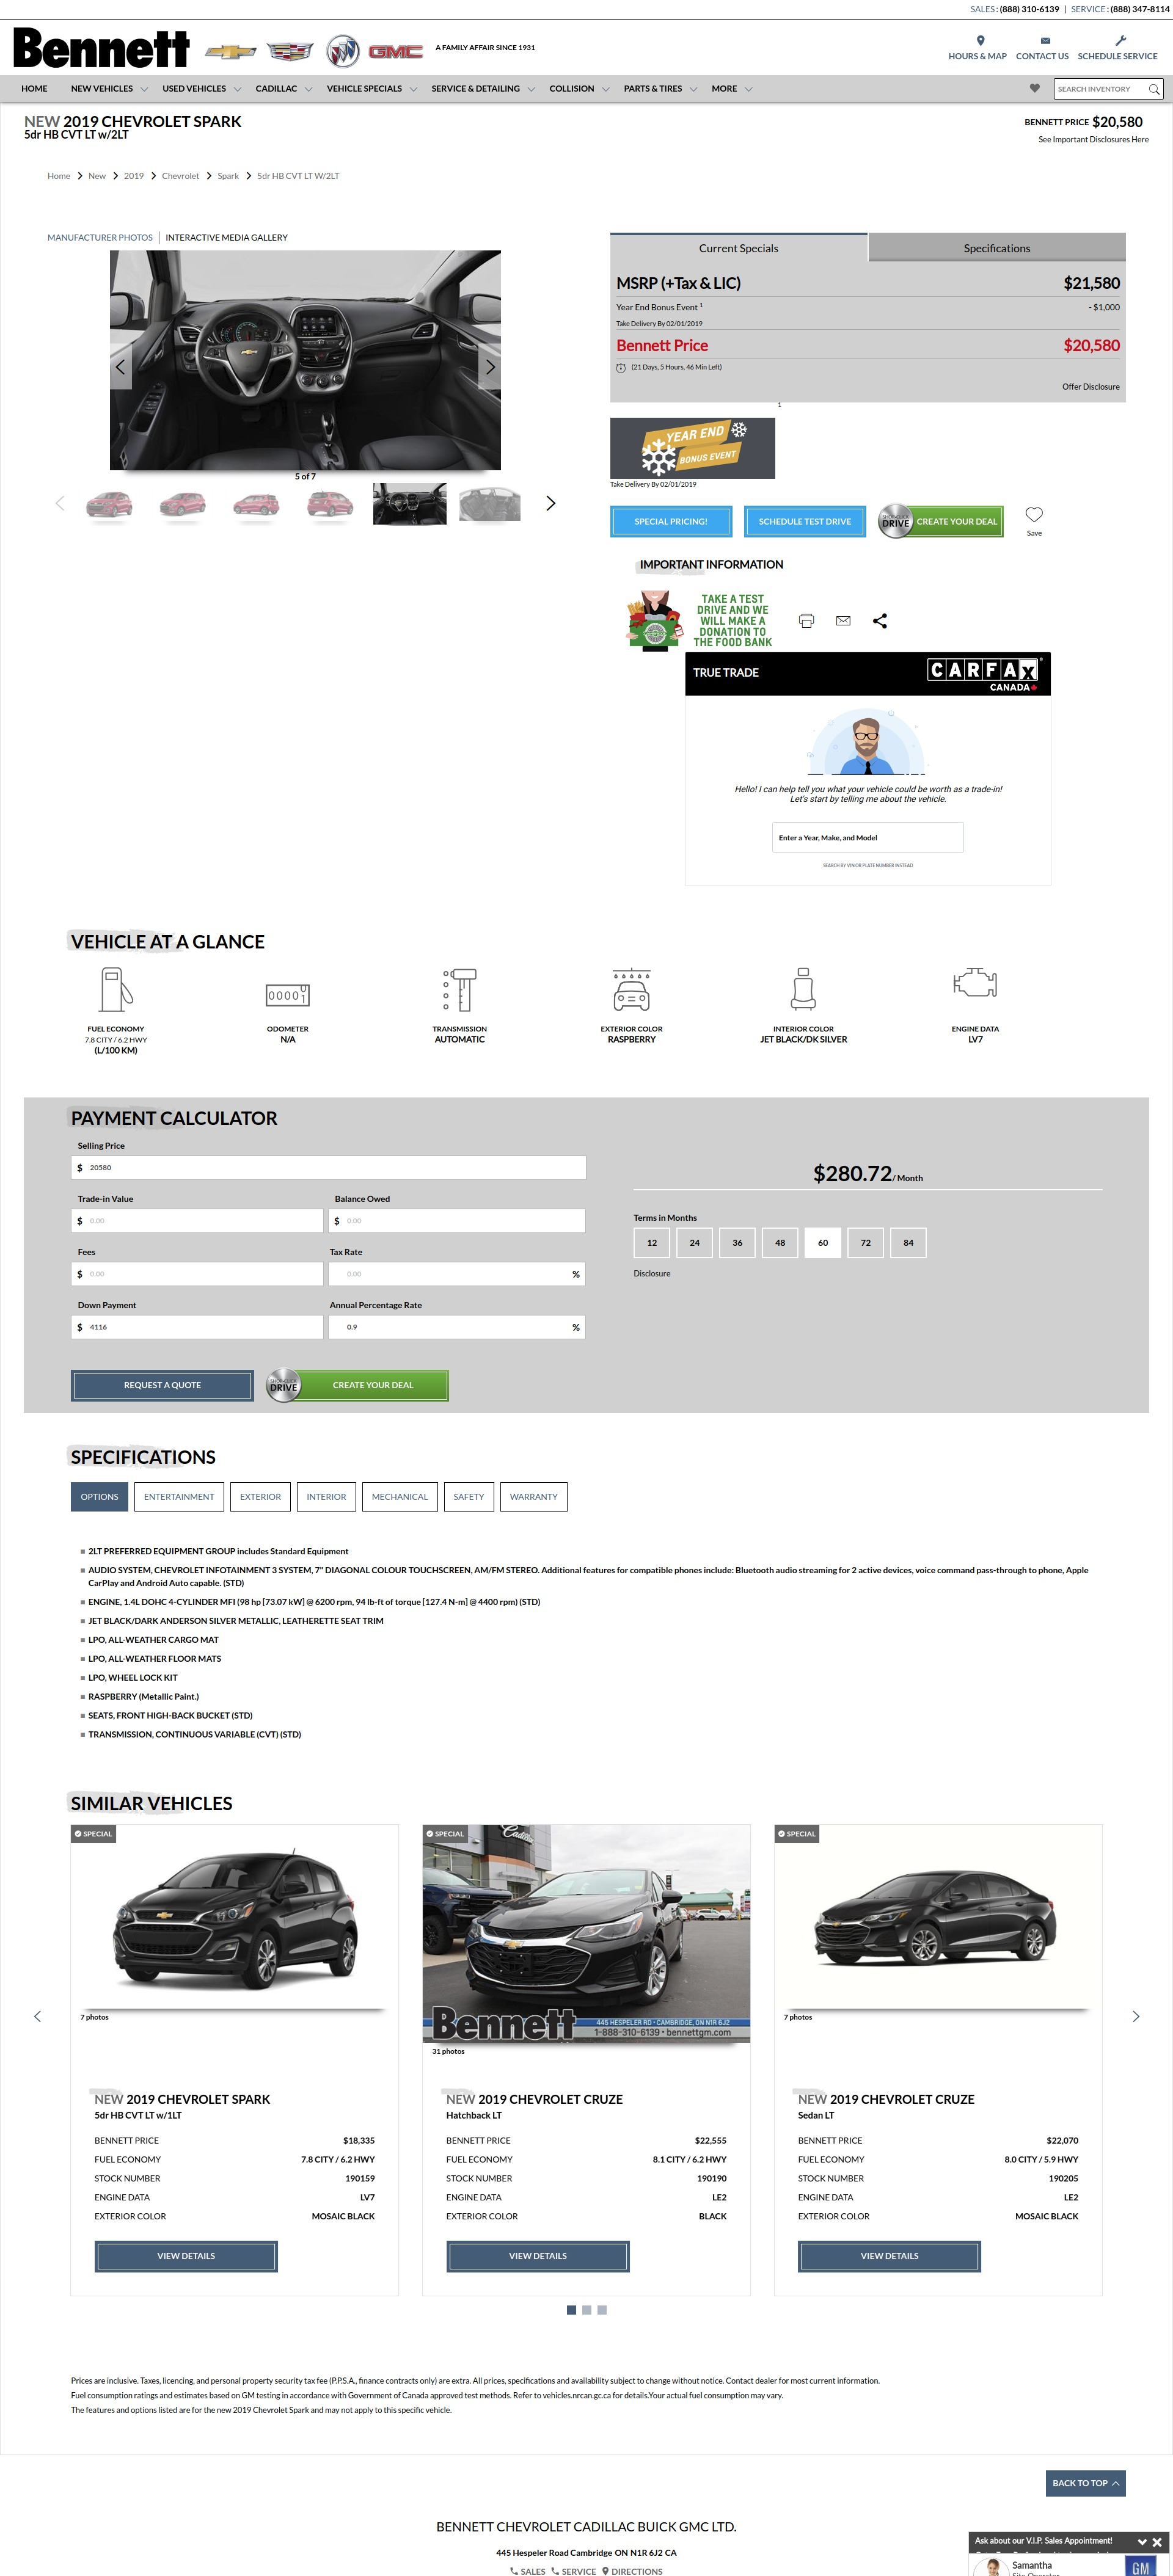car: (545, 496, 559, 513)
